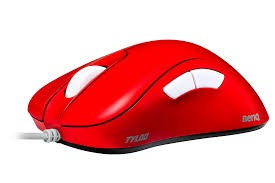mouse: (12, 36, 270, 171)
